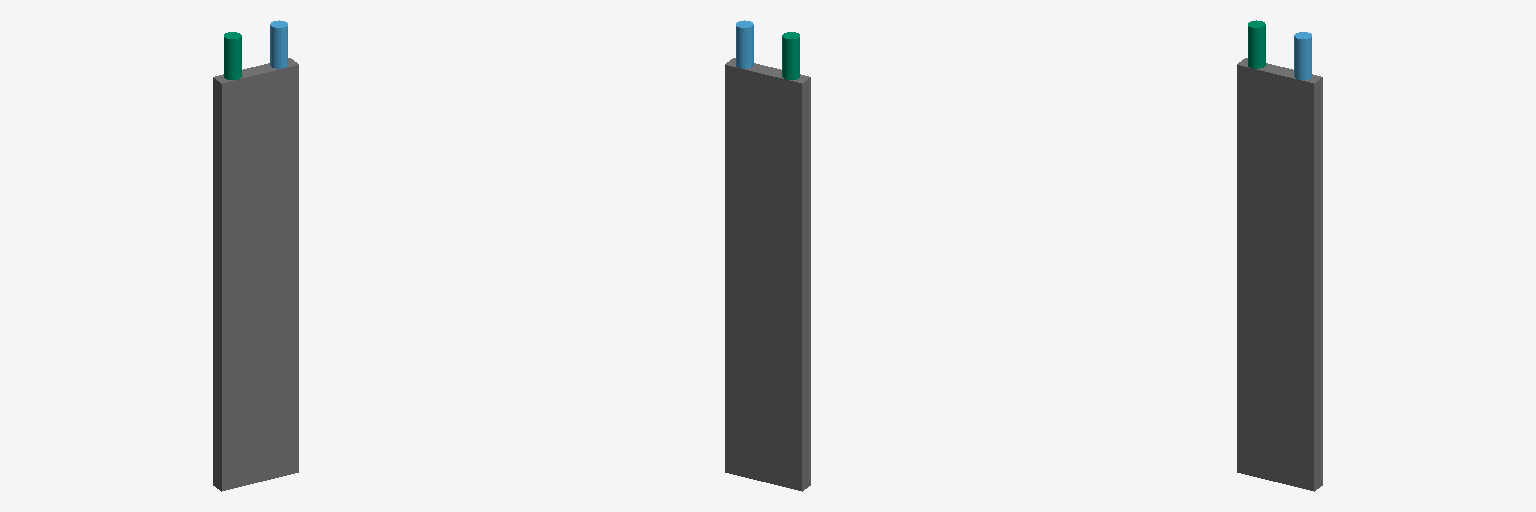
robot.urdf — gripper:
<?xml version="1.0" ?>
<robot name="gripper">
  <link name="baseLink">
    <inertial>
      <origin rpy="0 0 0" xyz="0 0 0"/>
       <mass value="0.001"/>
       <inertia ixx="0.01" ixy="0" ixz="0" iyy="0.01" iyz="0" izz="0.01"/>
    </inertial>
    <visual>
      <origin rpy="0 0 0" xyz="0 0.0 0.0"/>
      <geometry>
			<box size="0.050 0.01 0.25"/>
      </geometry>
       <material name="grey">
        <color rgba="0.5 0.5 0.5 1.0"/>
      </material>
    </visual>
    <collision>
      <origin rpy="0 0 0" xyz="0 0.0 0.0"/>
      <geometry>
			<box size="0.050 0.01 0.25"/>
      </geometry>
    </collision>
  </link>
  <link name="leftfinger">
      <contact>
      <friction_anchor/>
      <stiffness value="30000.0"/>
      <damping value="1000.0"/>
      <spinning_friction value="0.75"/>
      <lateral_friction value="1.0"/>
    </contact>
  	<inertial>
      <origin rpy="0 0 0" xyz="0 0 0"/>
       <mass value="0.1"/>
       <inertia ixx="0.1" ixy="0" ixz="0" iyy="0.1" iyz="0" izz="0.1"/>
    </inertial>
    <visual>
      <origin rpy="0 0 0" xyz="0.0 0.0 0.01"/>
      <geometry>
        <cylinder radius="0.005" length="0.03"/>
      </geometry>
    </visual>
    <collision>
      <origin rpy="0 0 0" xyz="0.0 0 0.01"/>
      <geometry>
        <cylinder radius="0.005" length="0.03"/>
      </geometry>
      <material name="white"/>
    </collision>
  </link>
  <link name="rightfinger">
      <contact>
      <friction_anchor/>
      <stiffness value="30000.0"/>
      <damping value="1000.0"/>
      <spinning_friction value="0.75"/>
      <lateral_friction value="1.0"/>
    </contact>
  	<inertial>
      <origin rpy="0 0 0" xyz="0 0 0"/>
       <mass value="0.1"/>
       <inertia ixx="0.1" ixy="0" ixz="0" iyy="0.1" iyz="0" izz="0.1"/>
    </inertial>
      <geometry>
		<box size="0.02 0.01 0.01"/>
      </geometry>
      <material name="white"/>
    <visual>
      <origin rpy="0 0 0" xyz="0.0 0.0 0.01"/>
      <geometry>
        <cylinder radius="0.005" length="0.03"/>
      </geometry>
    </visual>
    <collision>
      <origin rpy="0 0 0" xyz="0.0 0 0.01"/>
      <geometry>
        <cylinder radius="0.005" length="0.03"/>
      </geometry>
      <material name="white"/>
    </collision>
  </link>

  <joint name="finger_joint1" type="fixed">
    <parent link="baseLink"/>
    <child link="leftfinger"/>
    <origin rpy="0 0 0" xyz="0.015 0 0.125"/>
    <axis xyz="-1 0 0"/>
    <limit effort="200" lower="0.0" upper="0.11" velocity="0.2"/>
  </joint>

  <joint name="finger_joint2" type="fixed">
    <parent link="baseLink"/>
    <child link="rightfinger"/>
    <origin rpy="0 0 0" xyz="-0.015 0 0.125"/>
    <axis xyz="1 0 0"/>
    <limit effort="200" lower="-0" upper="0.11" velocity="0.2"/>
    <mimic joint="finger_joint1"/>
  </joint>

  <joint name="gripping_trafo" type="fixed">
		<parent link="baseLink"/>
		<child link="tcp"/>
		<origin xyz="0 0.0 00" rpy="0 0 0"/>
  </joint>

  <link name="tcp">

  </link>

</robot>

--- What the picture shows (computed from the rendered views, not written in the file) ---
3 views of the same robot in one strip: view 1: azimuth 30°, elevation 25°; view 2: azimuth 150°, elevation 25°; view 3: azimuth 330°, elevation 25° (orthographic).
Robot: gripper — 4 links, 3 joints (3 fixed); root link baseLink; default pose: every joint at zero.
Links seen in each view (by area): view 1: baseLink, leftfinger, rightfinger; view 2: baseLink, leftfinger, rightfinger; view 3: baseLink, leftfinger, rightfinger.
Boxes of the visible links, <box> form: baseLink: <box>213,58,298,491</box>; leftfinger: <box>270,20,287,68</box>; rightfinger: <box>224,32,241,79</box>; baseLink: <box>725,58,810,491</box>; leftfinger: <box>736,20,753,68</box>; rightfinger: <box>782,32,799,79</box>; baseLink: <box>1237,58,1322,491</box>; leftfinger: <box>1294,32,1311,79</box>; rightfinger: <box>1248,20,1265,68</box>.
Size in the robot's own frame: 0.05 by 0.01 by 0.275 metres.
Geometry: primitives only (box / cylinder / sphere), no mesh files.